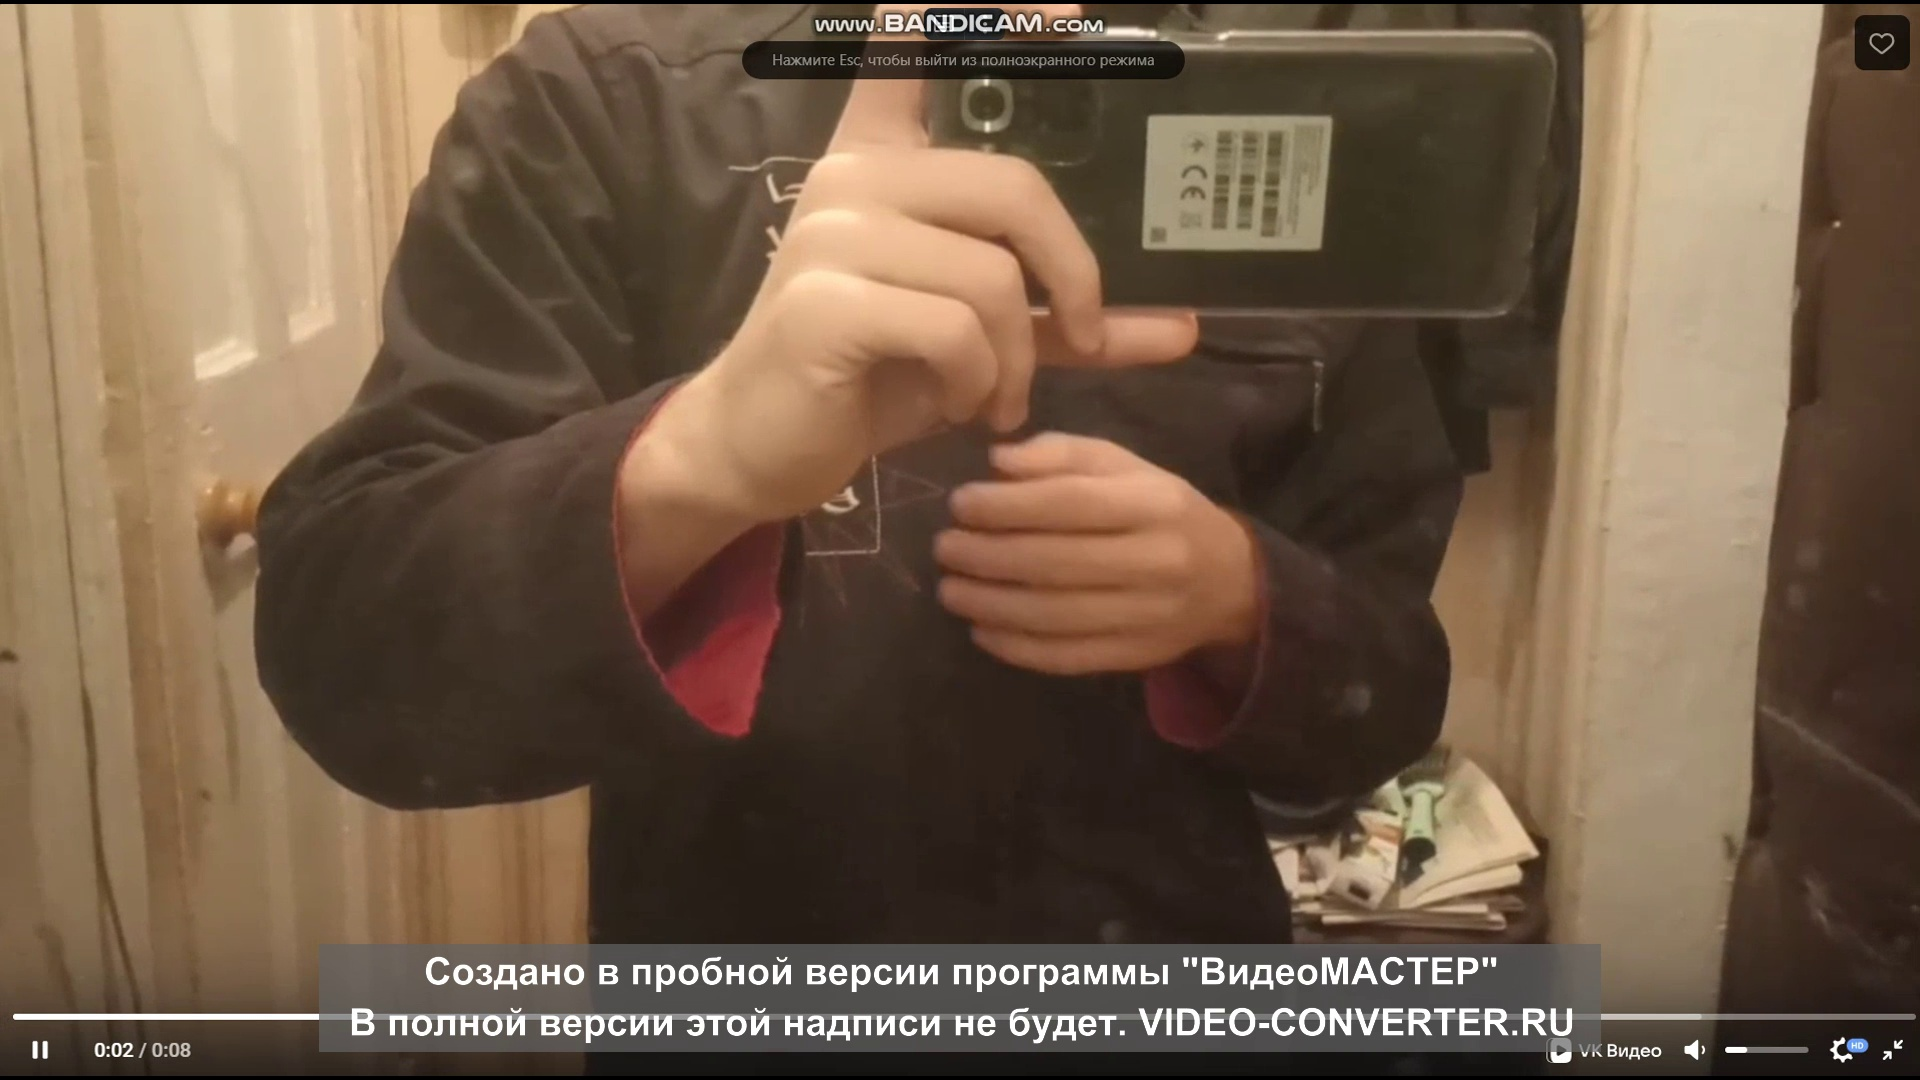Кисть: (936, 407, 1245, 671)
